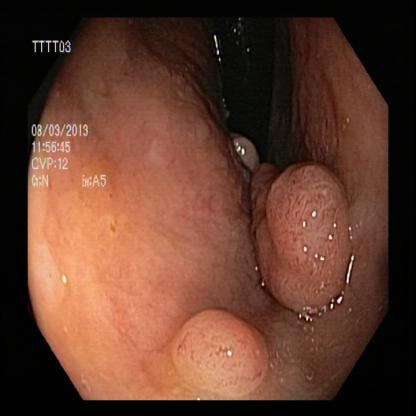Labels: (30, 32, 114, 213)
Polyps: (236, 132, 357, 314), (170, 313, 284, 393)
